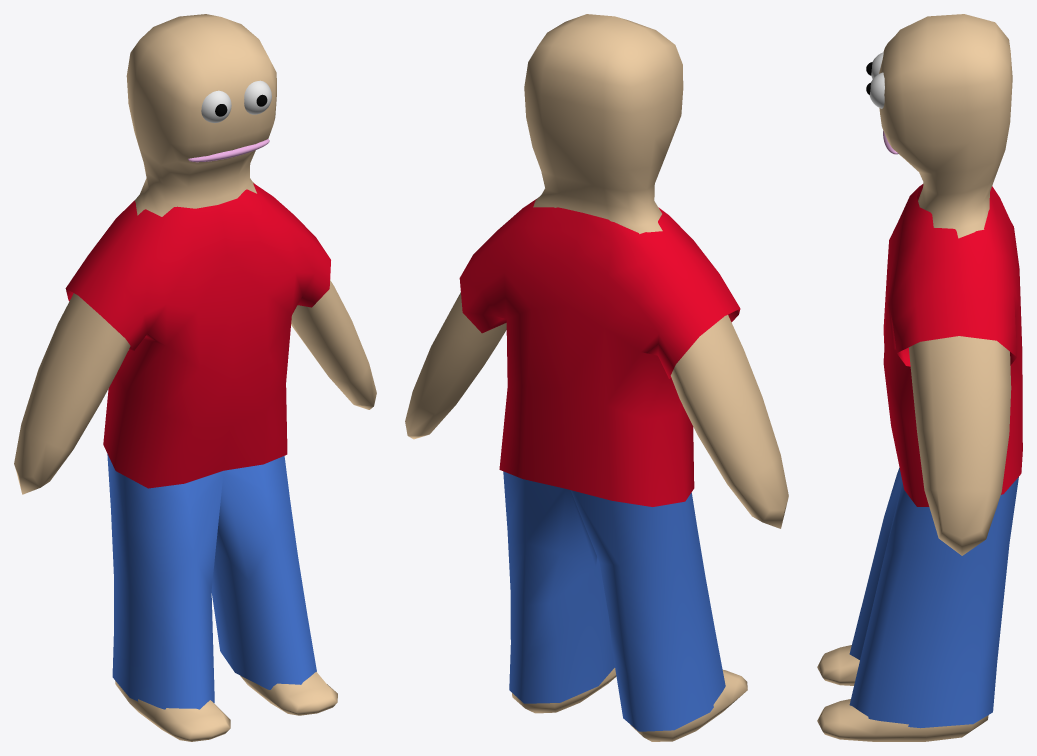
The model's file is human.fbx.
3 renders of one model, left to right at view 1: azimuth 30°, elevation 25°; view 2: azimuth 150°, elevation 25°; view 3: azimuth 270°, elevation 25°, orthographic. The views are drawn at different scales.
Parts seen in each view (by area): view 1: Shirt, Body, Pants, Eyeball2, Eyeball; view 2: Shirt, Body, Pants; view 3: Body, Pants, Shirt, Eyeball2.
Part boxes in pixels (box(x1,y1,x2,y2)): Shirt: box(65, 183, 330, 488); Body: box(14, 14, 376, 741); Pants: box(107, 454, 316, 709); Eyeball2: box(244, 80, 271, 114); Eyeball: box(201, 90, 231, 123); Shirt: box(459, 197, 740, 506); Body: box(405, 14, 788, 741); Pants: box(503, 471, 725, 731); Body: box(817, 14, 1012, 741); Pants: box(849, 467, 1018, 728); Shirt: box(883, 184, 1022, 506); Eyeball2: box(869, 72, 884, 108).
Bounding box in the file's own units: 2.42 × 4.36 × 1.19.
